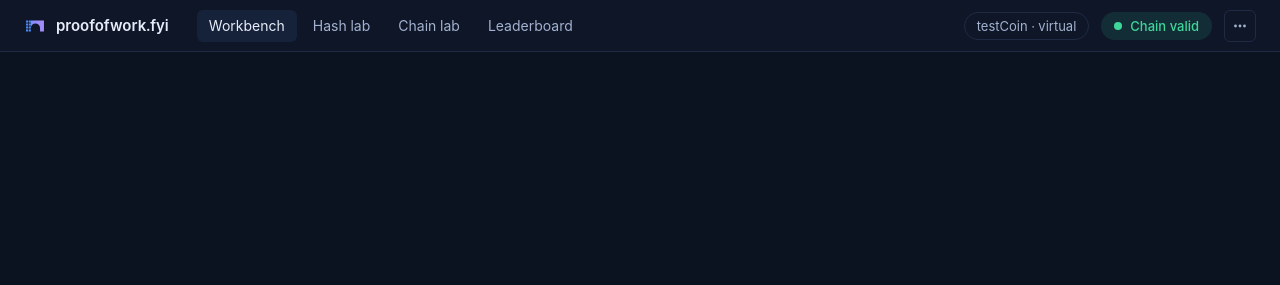
overflow menu › opens with focus on the first item, closes on Escape and returns focus to More
Click the button named "More": click(1240, 26) [1224, 10, 1256, 42]
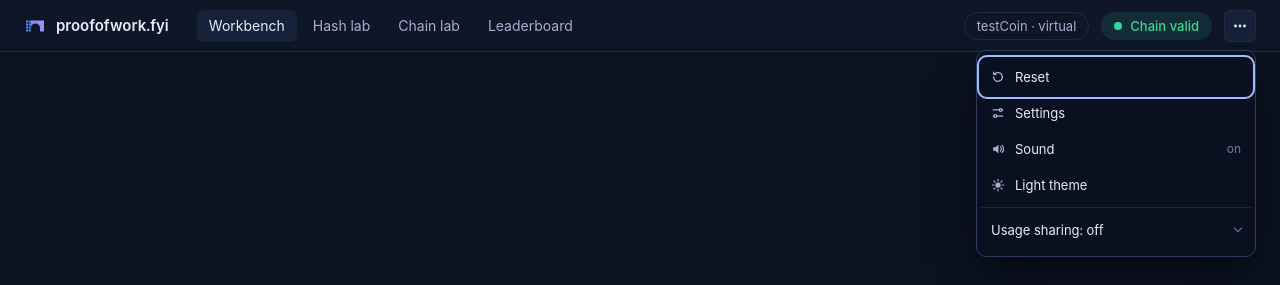
Press ArrowDown in the button "Reset", box [981, 58, 1251, 94]
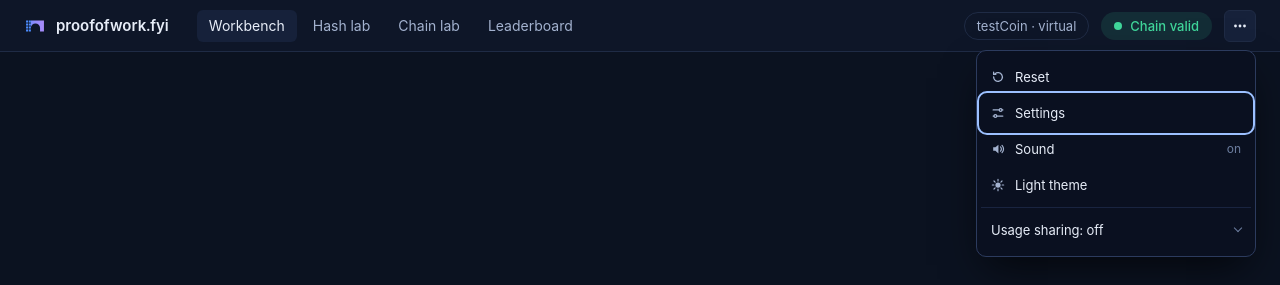
Press ArrowUp in the button "Settings", box [981, 94, 1251, 130]
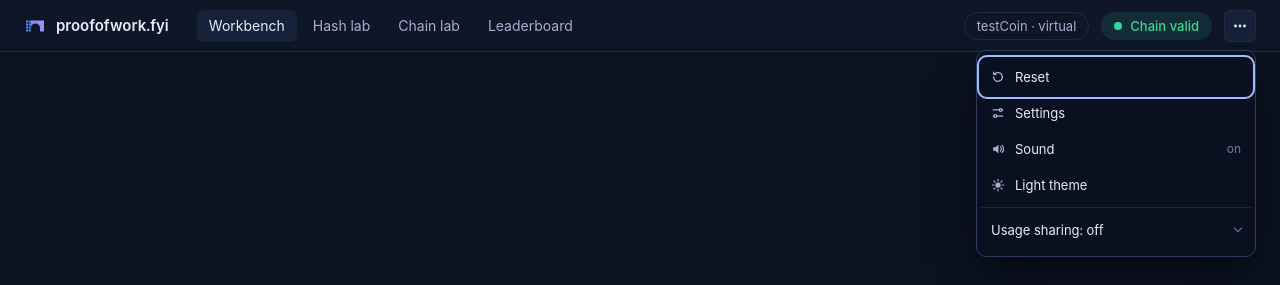
Press Escape in the button "Reset", box [981, 58, 1251, 94]
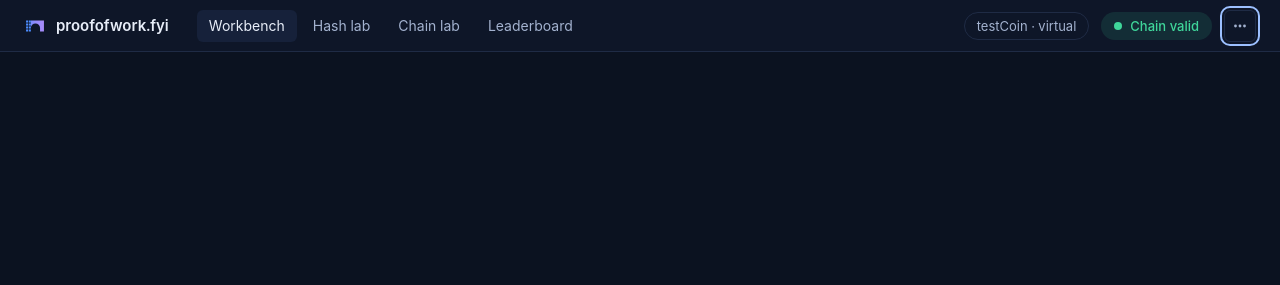
Result: the button "Reset" is gone
